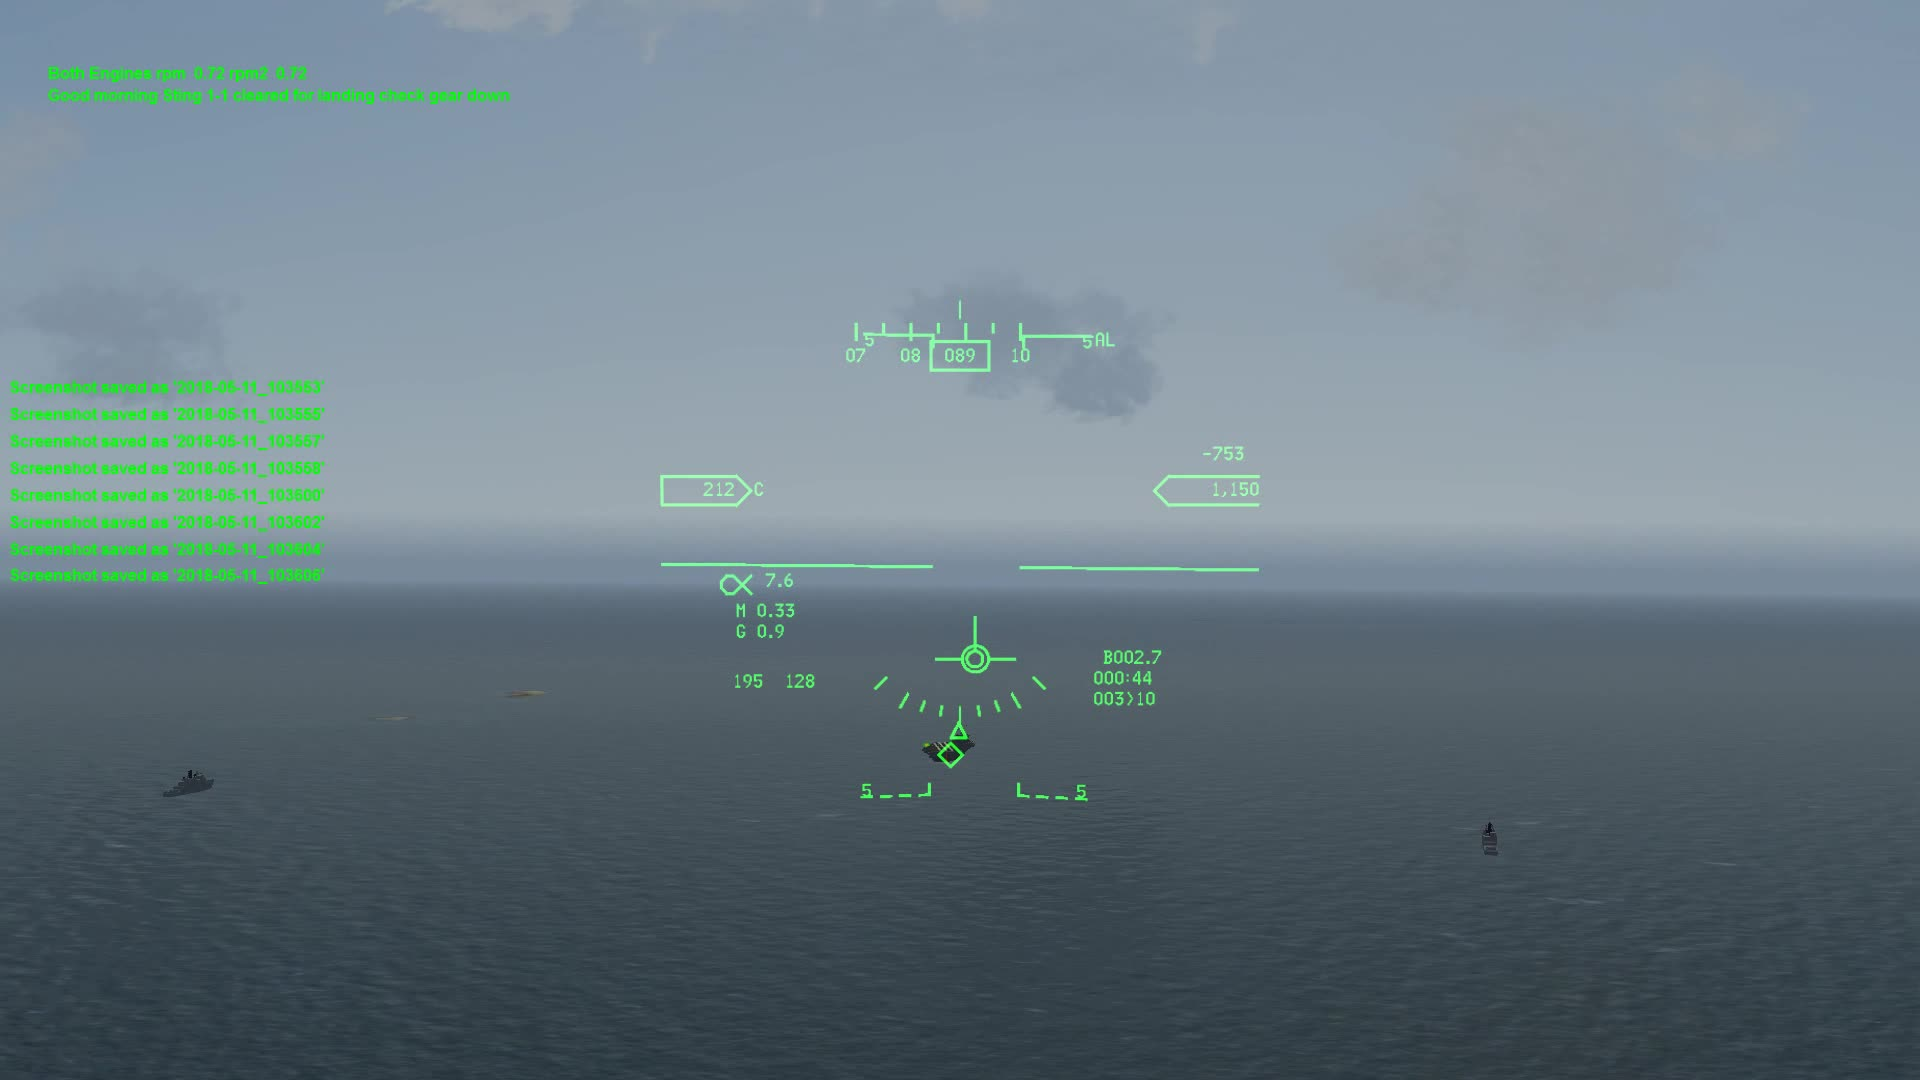speed vector: (910, 618, 1023, 679)
